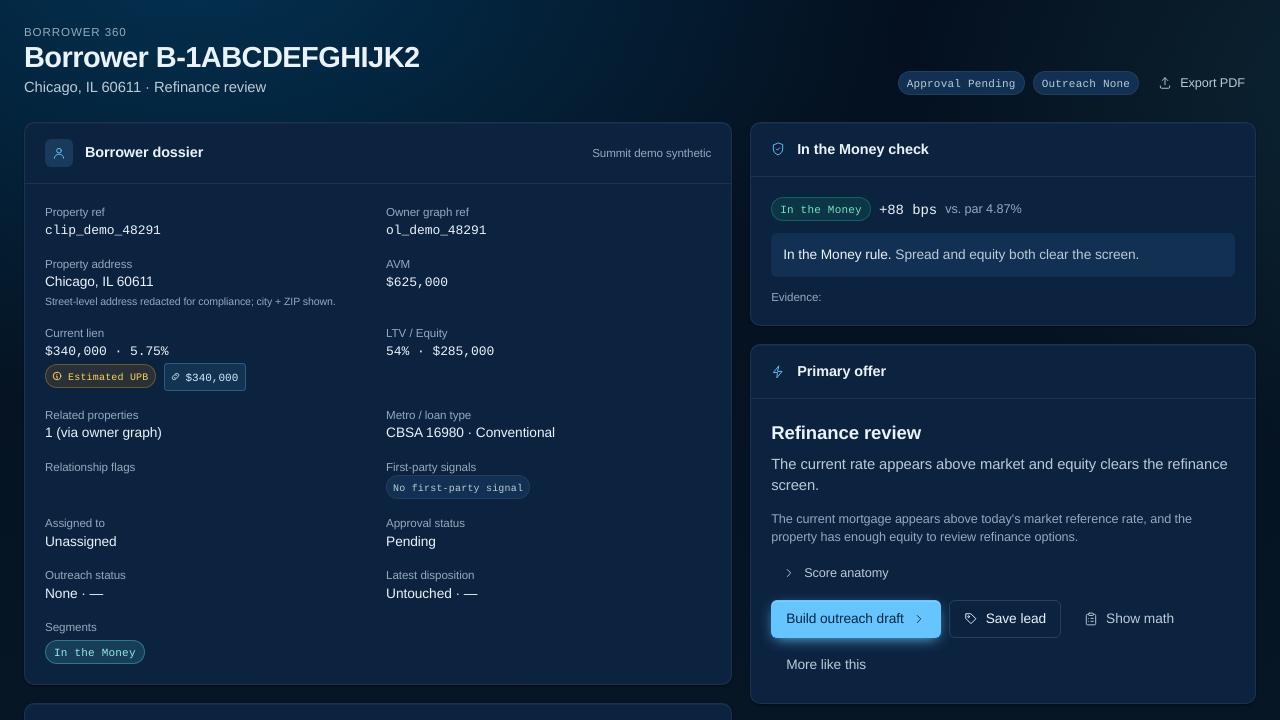
Test: Borrower 360 More like this (wow-power-2) › reads nothing until clicked, then shows the pattern with one count and links only
Expected: the element with test id "borrower-more-like-this" shows "Build outreach draft", [771, 600, 941, 638]
Click the button with test id "borrower-more-like-this".
click(826, 665)  # box [771, 646, 881, 683]
(page scrolled)
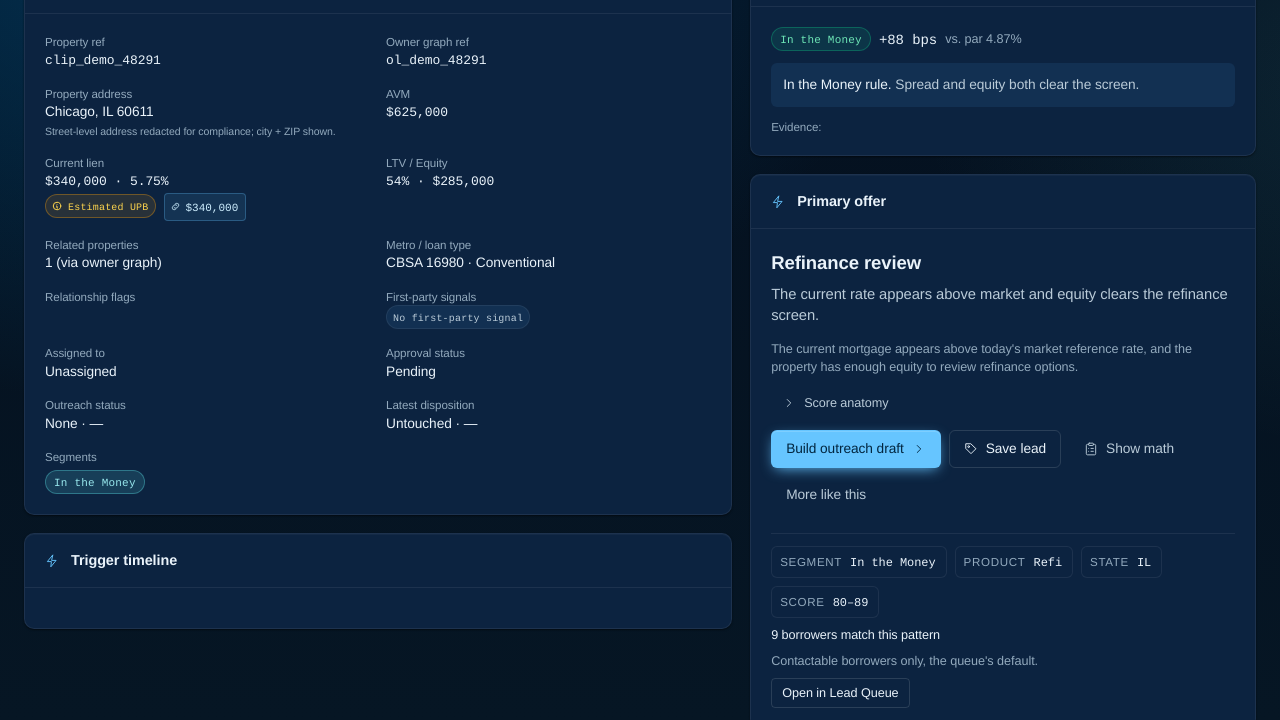
Expected: the message "9 borrowers match this pattern" is shown, [771, 627, 940, 643]
